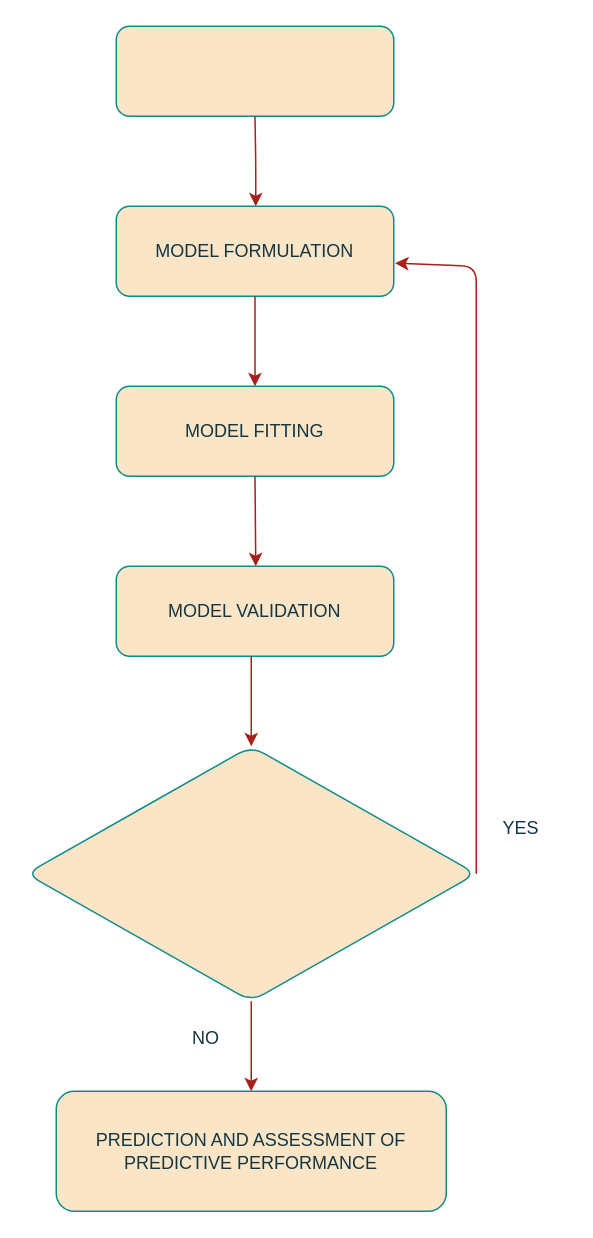
The diagram is 593 pixels wide and 1238 high, and some of its shapes have lost their labels. The centre of each missing label's shape, as x and y in pixels:
EVIDENCE AGAINST THE MODELLING ASSUMPTIONS?: pixel 250 873
EXPLORATORY ANALYSIS: pixel 254 70
